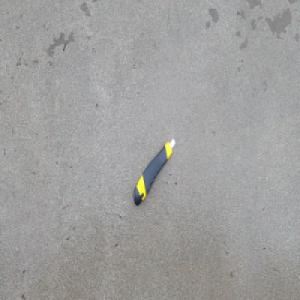Cutter: (133, 136, 176, 207)
